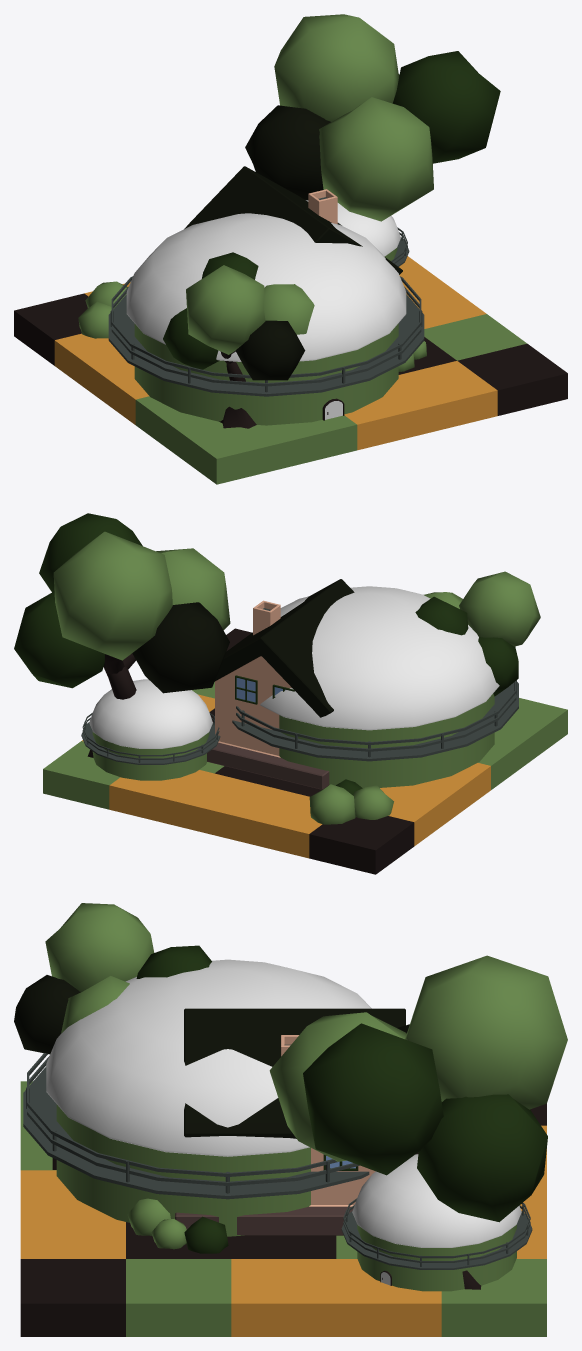
Rendered from 綠建築.fbx.
3 renders of one model, top to bottom at view 1: azimuth 30°, elevation 25°; view 2: azimuth 150°, elevation 25°; view 3: azimuth 270°, elevation 25°, orthographic. The views are drawn at different scales.
Parts seen in each view (by area): view 1: plane_up_grn_building, Cylinder081, tree002, tree001, Box121, Cylinder084, Cylinder083, Cylinder082, Object003, Box130, tree007; view 2: Cylinder081, plane_up_grn_building, tree002, Box121, Cylinder084, tree001, tree007, Cylinder083, Object003, Cylinder082, Box130, Box139; view 3: plane_up_grn_building, tree002, Cylinder081, Cylinder084, Box121, tree001, Cylinder082, Cylinder083, Object001, tree003, tree004, Cylinder086 (+1 smaller).
Boxes of the visible parts, box(x1,y1,x2,y2) form: plane_up_grn_building: box(14, 256, 567, 484); Cylinder081: box(108, 213, 424, 425); tree002: box(245, 14, 500, 221); tree001: box(163, 252, 314, 428); Box121: box(184, 166, 402, 274); Cylinder084: box(306, 200, 409, 266); Cylinder083: box(111, 276, 421, 378); Cylinder082: box(111, 286, 421, 386); Object003: box(78, 301, 114, 338); Box130: box(308, 189, 337, 224); tree007: box(85, 281, 127, 307); Cylinder081: box(232, 586, 518, 787); plane_up_grn_building: box(43, 628, 567, 874); tree002: box(14, 513, 230, 757); Box121: box(202, 579, 354, 789); Cylinder084: box(81, 679, 220, 780); tree001: box(415, 571, 540, 696); tree007: box(309, 784, 355, 824); Cylinder083: box(236, 681, 516, 745); Object003: box(353, 785, 393, 819); Cylinder082: box(236, 693, 516, 751); Box130: box(253, 600, 280, 635); Box139: box(235, 675, 257, 704); plane_up_grn_building: box(20, 1081, 546, 1336); tree002: box(269, 955, 567, 1289); Cylinder081: box(23, 959, 371, 1236); Cylinder084: box(341, 1154, 532, 1291); Box121: box(175, 1008, 405, 1235); tree001: box(14, 903, 211, 1054); Cylinder082: box(27, 1056, 359, 1185); Cylinder083: box(27, 1053, 339, 1176); Object001: box(184, 1216, 228, 1253); tree003: box(127, 1198, 170, 1235); tree004: box(151, 1219, 186, 1249); Cylinder086: box(343, 1198, 530, 1258).
Bounding box in the file's own units: 119 × 71.66 × 105.
